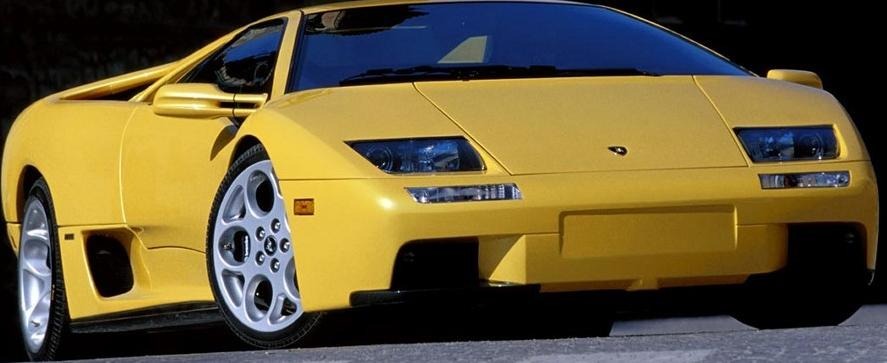front_view: (316, 113, 880, 333)
headlight: (340, 129, 526, 207)
side_glass: (158, 17, 284, 114)
